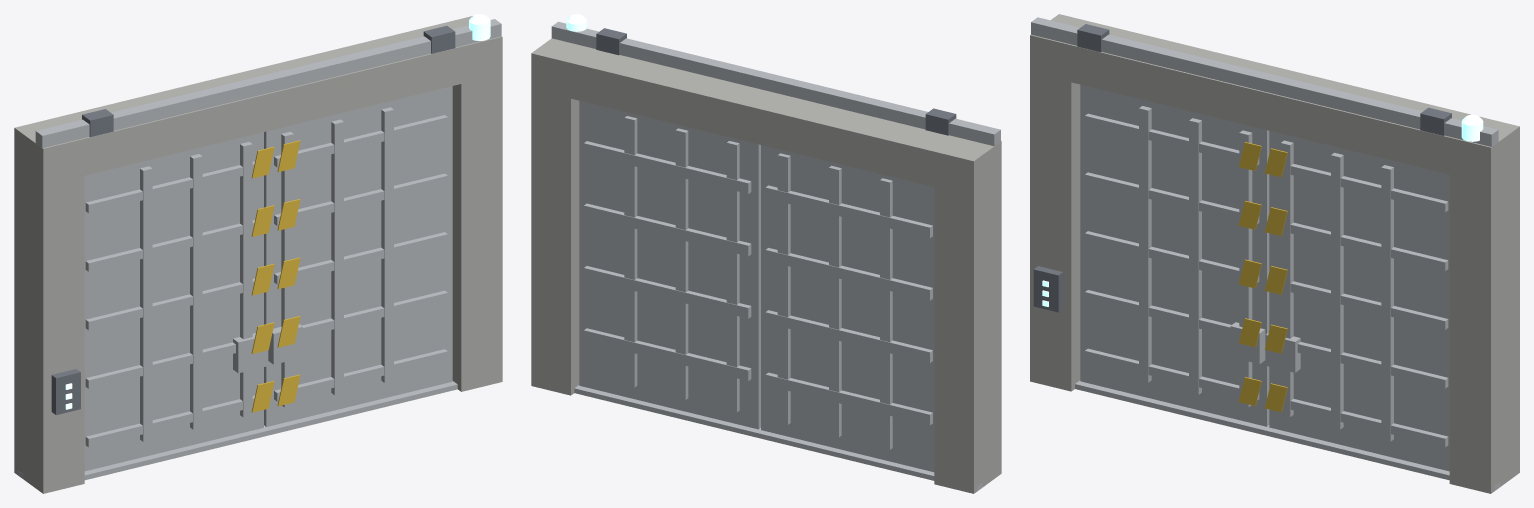
Rendered from ufo-crash-site-and-recovery-facility-blast-door-15c5e35c__17358.glb.
The picture shows the model from 3 angles, left to right: view 1: azimuth 30°, elevation 25°; view 2: azimuth 150°, elevation 25°; view 3: azimuth 330°, elevation 25°; orthographic projection. The views are drawn at different scales.
Visible parts, largest first — view 1: blast-door, door-right, door-left; view 2: blast-door, door-right, door-left; view 3: blast-door, door-left, door-right.
Part boxes in pixels (box(x1,y1,x2,y2)): blast-door: box(14, 14, 502, 493); door-right: box(264, 86, 452, 426); door-left: box(84, 132, 267, 471); blast-door: box(531, 14, 1001, 493); door-right: box(579, 100, 760, 429); door-left: box(761, 145, 934, 472); blast-door: box(1030, 14, 1519, 493); door-left: box(1080, 84, 1269, 426); door-right: box(1265, 131, 1449, 471).
Size of the model in its own units: 7.8 by 5.98 by 1.01.
